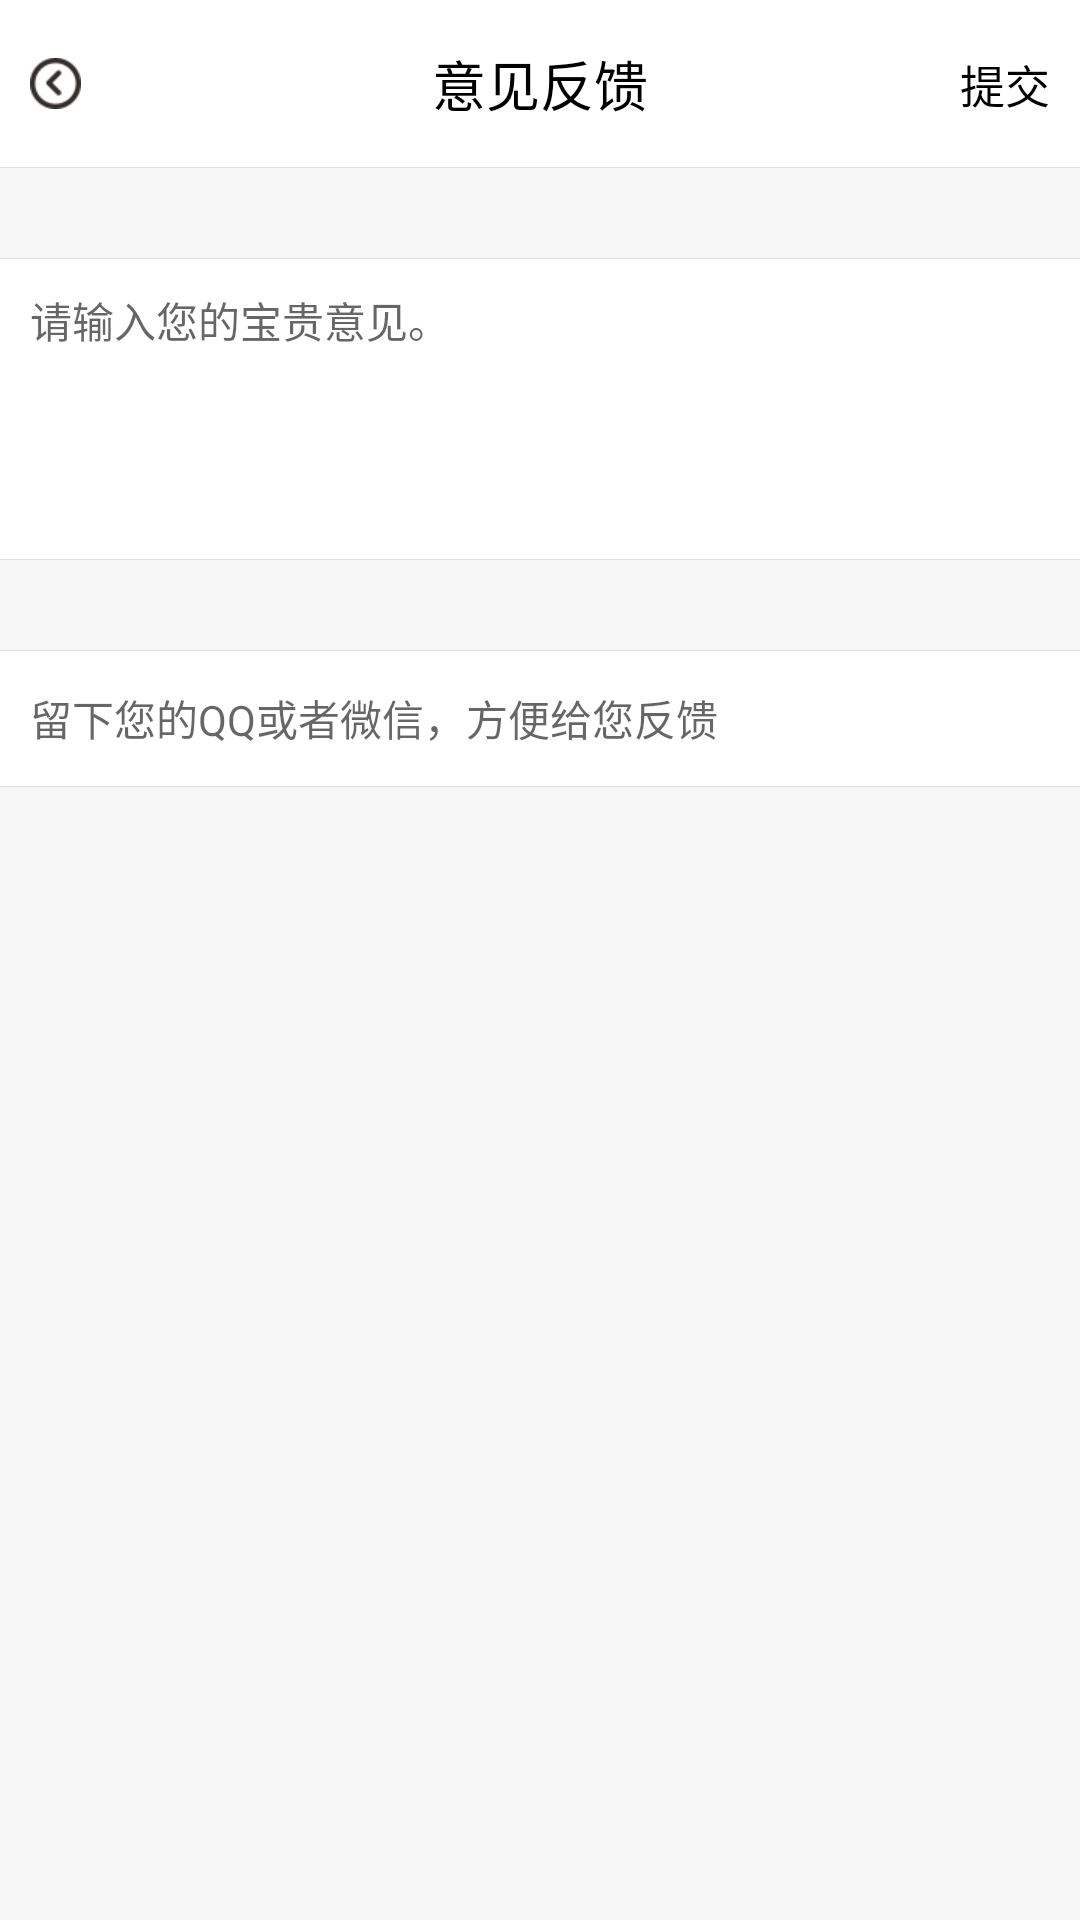

Named icons in this screenshot (1080x1920) and their bounding boxes, (x1, y1, x2, y2):
back: (30, 58, 81, 109)
